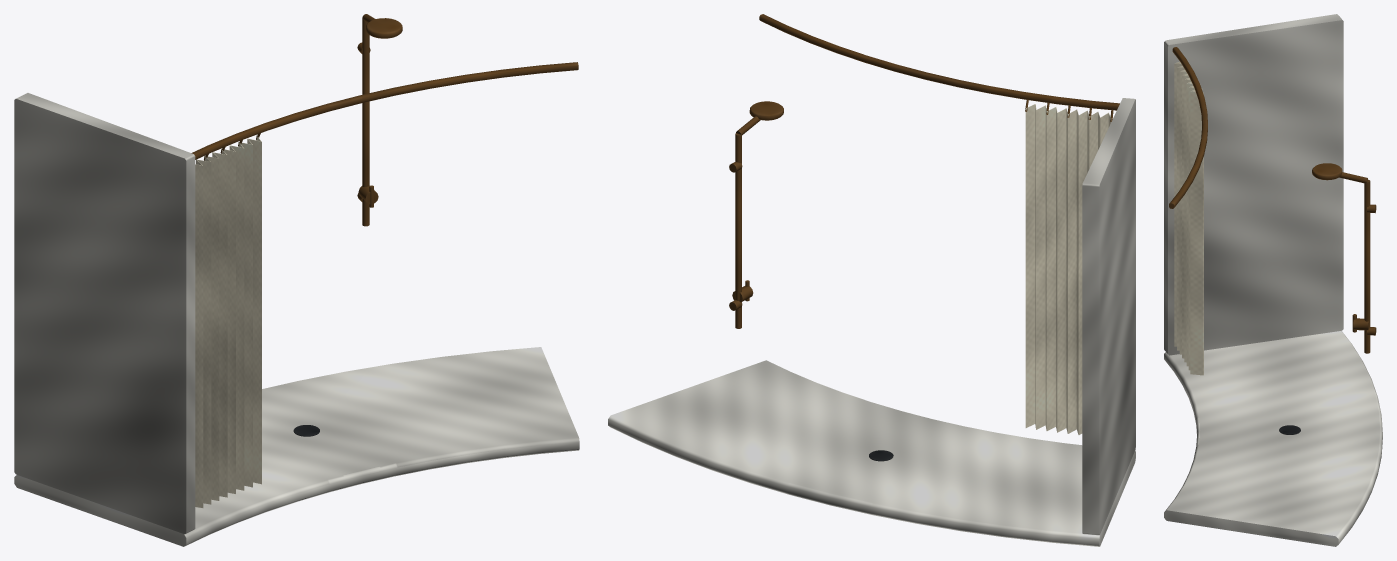
Rendered from Furn_ShowerBooth_Arc.fbx.
The picture shows the model from 3 angles, left to right: view 1: azimuth 30°, elevation 25°; view 2: azimuth 150°, elevation 25°; view 3: azimuth 270°, elevation 25°; orthographic projection. The views are drawn at different scales.
Visible parts, largest first — view 1: Furn_ShowerBooth_Arc; view 2: Furn_ShowerBooth_Arc; view 3: Furn_ShowerBooth_Arc.
Boxes of the visible parts, x1=… form: Furn_ShowerBooth_Arc: x1=14, y1=14, x2=579, y2=546; Furn_ShowerBooth_Arc: x1=608, y1=14, x2=1135, y2=546; Furn_ShowerBooth_Arc: x1=1164, y1=14, x2=1382, y2=546.
Size of the model in its own units: 2.98 by 2.1 by 1.3.
4 materials, 4 textured.
